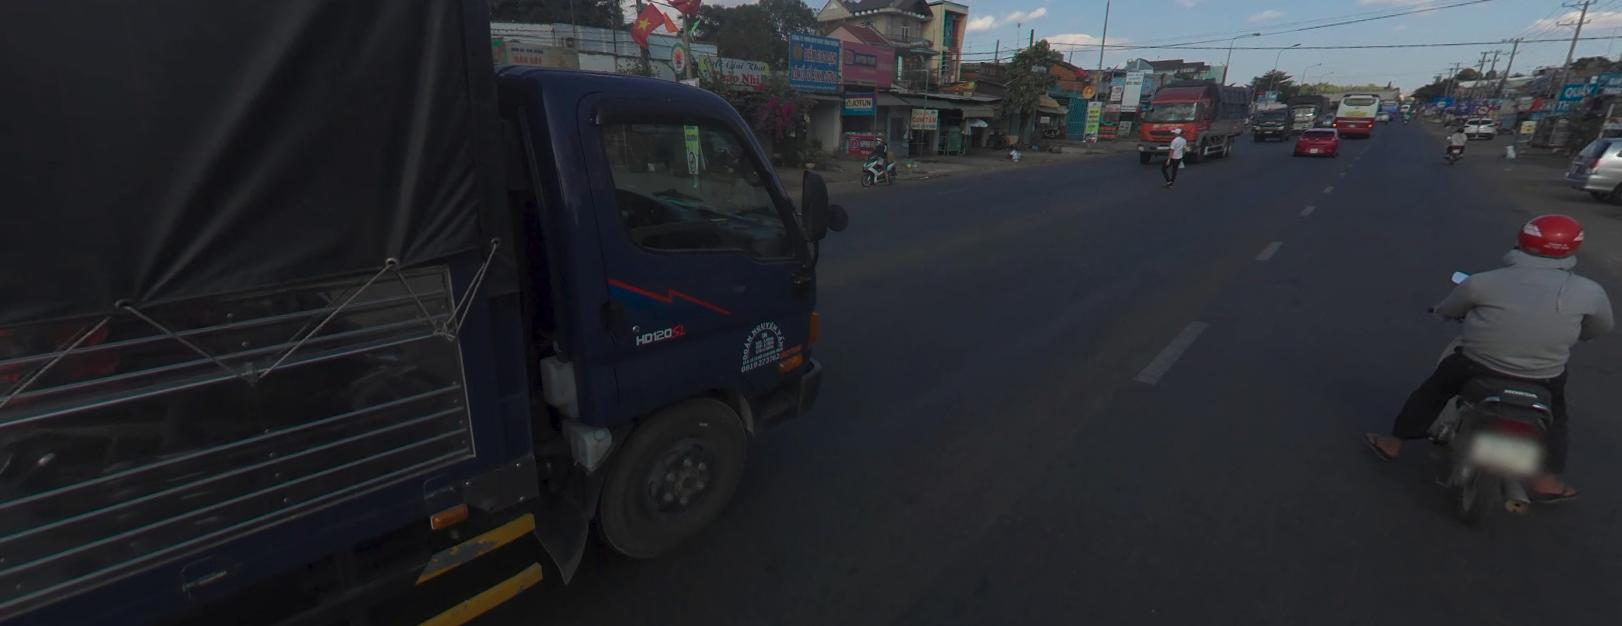Cam con lai: (1477, 105, 1489, 114)
